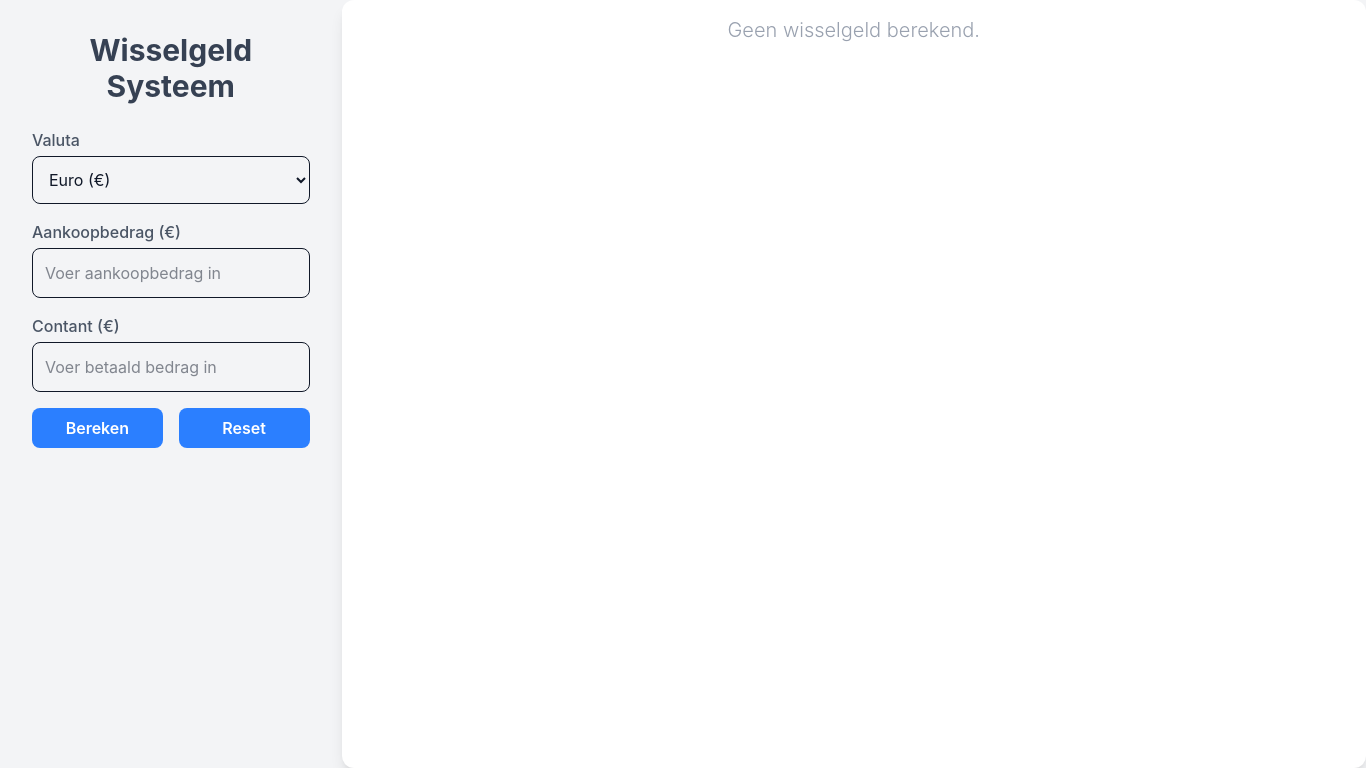
CashRegister Component › 2. Displays an error message when input is invalid
Click the button "Bereken". click: (97, 428)
box: [32,408,163,448]
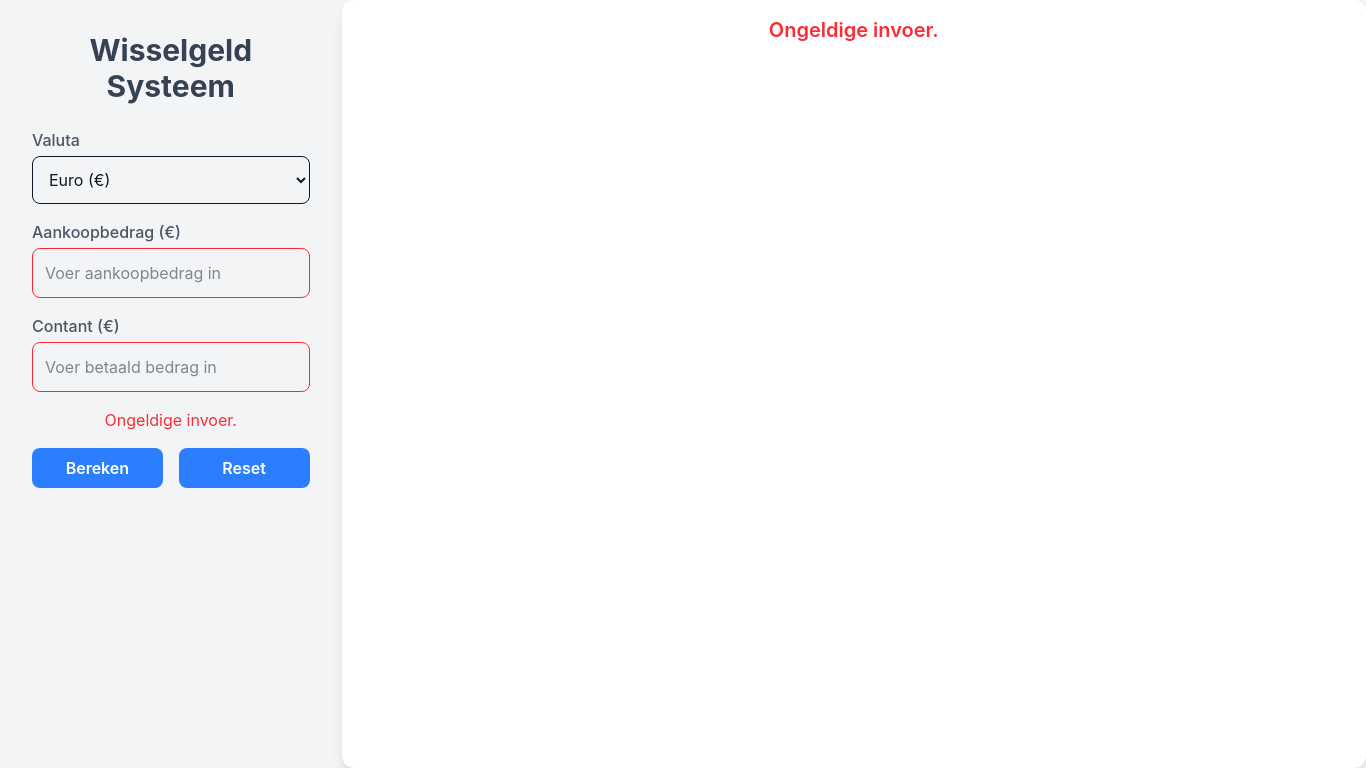
Result: the text "Ongeldige invoer." below "Contant (" is shown at [105,410,237,430]
